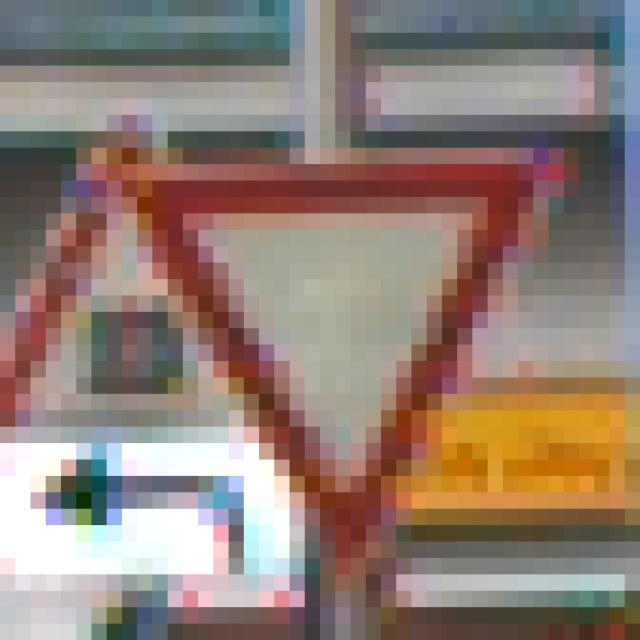Give Way: (93, 99, 550, 559)
